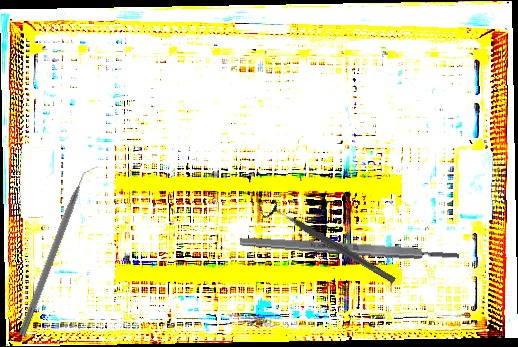Chopper: (17, 161, 102, 341)
Fixation Ring: (262, 198, 400, 291)
Scalpel Handle: (239, 234, 460, 263)
